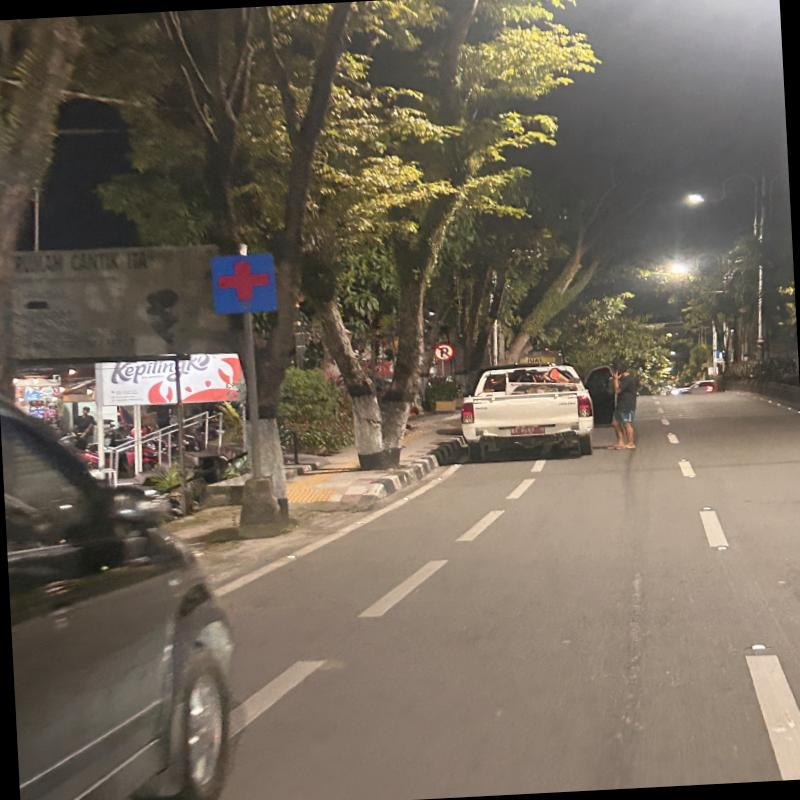license plate on a car: (509, 423, 551, 438)
